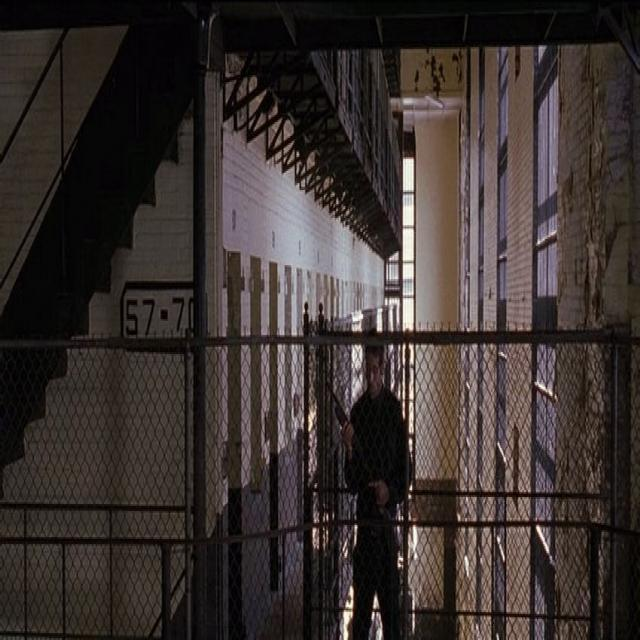gun-knife-thesis - v11 Yolov5 augmented: (324, 375, 400, 560)
